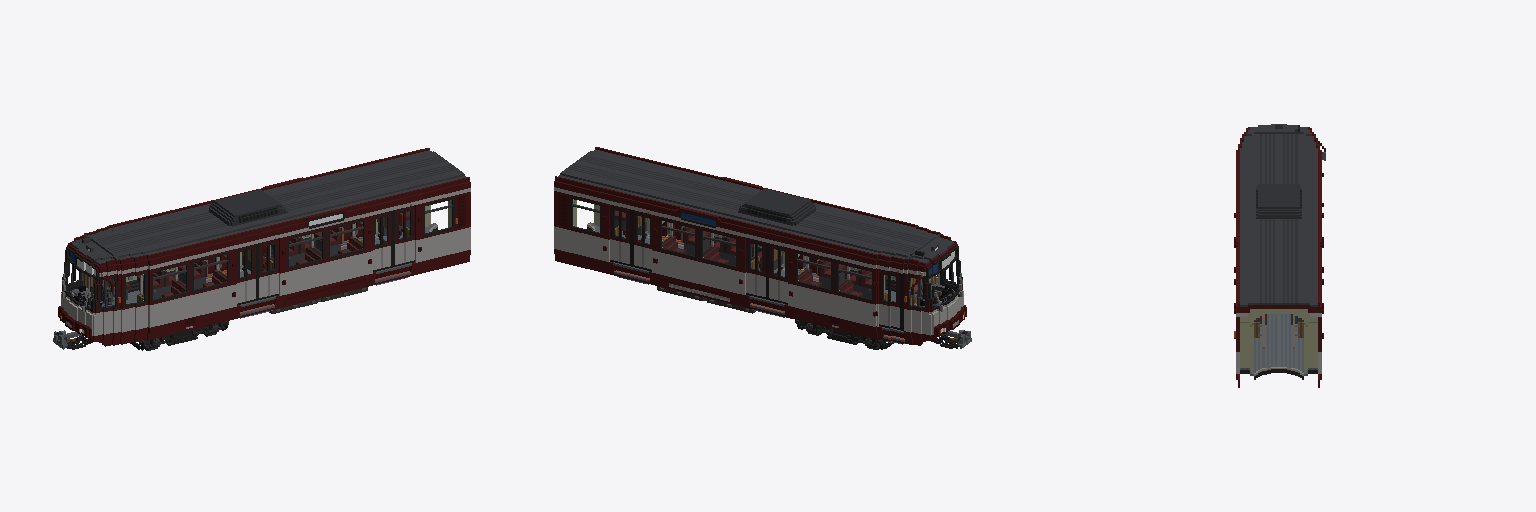
The picture shows the model from 3 angles: view 1: azimuth 30°, elevation 25°; view 2: azimuth 150°, elevation 25°; view 3: azimuth 270°, elevation 25°; orthographic projection.
Parts seen in each view (by area): view 1: FRAME, BOGEY_FRONT; view 2: FRAME, BOGEY_FRONT; view 3: FRAME.
Part boxes in pixels (left/top/right/bottom): FRAME: left=53, top=148, right=470, bottom=349; BOGEY_FRONT: left=130, top=321, right=228, bottom=350; FRAME: left=554, top=147, right=971, bottom=348; BOGEY_FRONT: left=795, top=320, right=893, bottom=349; FRAME: left=1234, top=124, right=1325, bottom=387.
Bounding box in the file's own units: 14 × 3.75 × 2.81.
Materials: 2 (1 with a texture image).